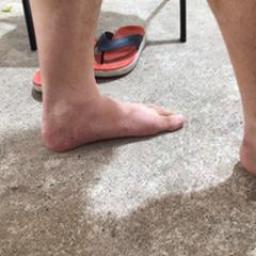Medial View -Left Foot-: (36, 77, 189, 167)
